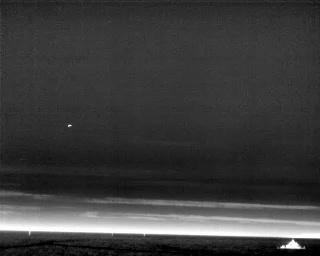BIRD: (66, 122, 74, 130)
